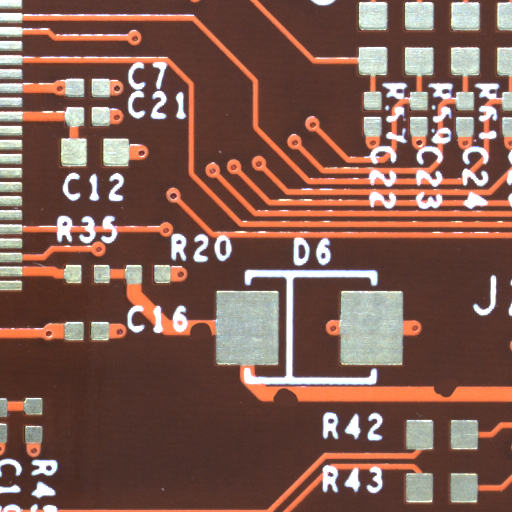Mouse_bite: (288, 396, 328, 418), (446, 389, 480, 410), (200, 329, 225, 350)
